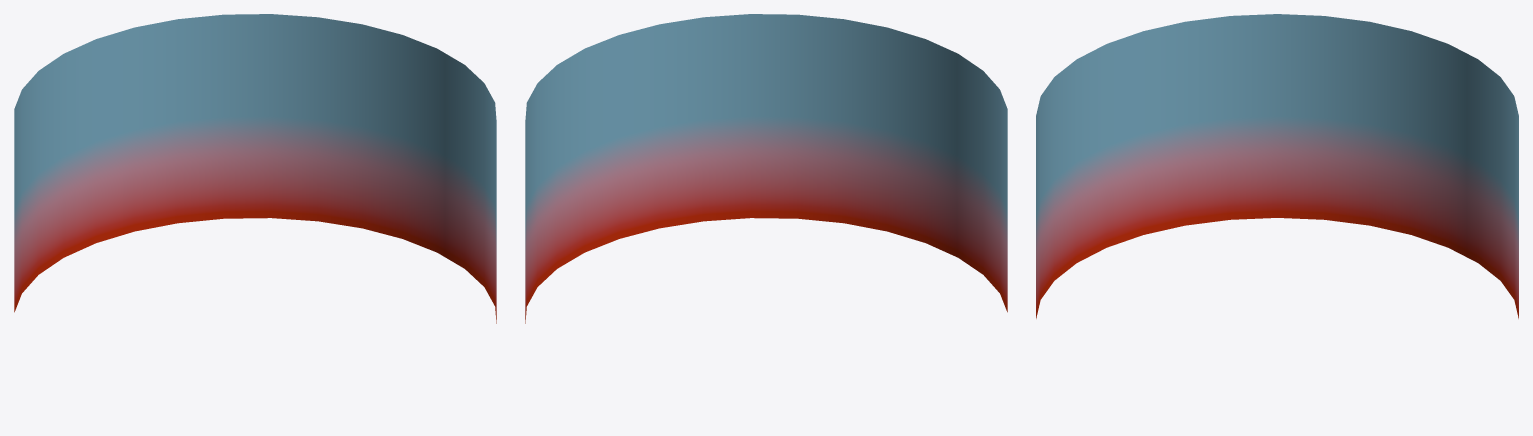
The model's file is sky.glb.
The picture shows the model from 3 angles, left to right: view 1: azimuth 30°, elevation 25°; view 2: azimuth 150°, elevation 25°; view 3: azimuth 270°, elevation 25°; orthographic projection.
Visible parts, largest first — view 1: sky_out; view 2: sky_out; view 3: sky_out.
Boxes of the visible parts, x1,y1,x2,y2 form: sky_out: (14,14,496,323); sky_out: (525,14,1007,323); sky_out: (1036,14,1518,318).
Bounding box in the file's own units: 12000 × 5590 × 12000.
